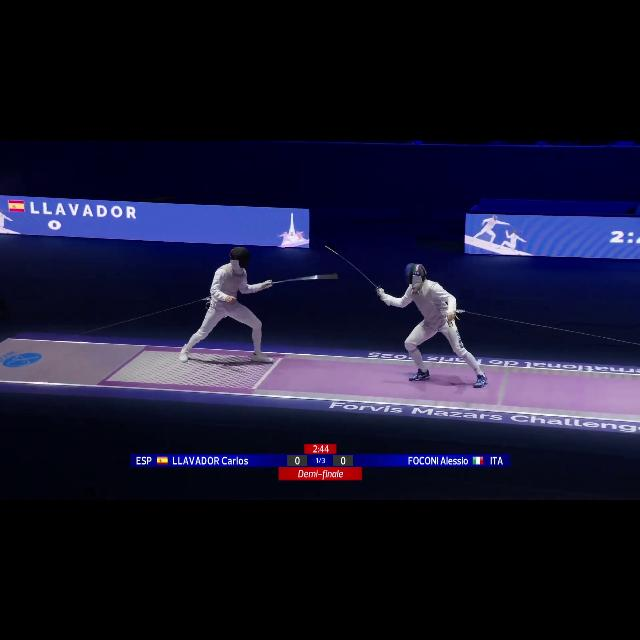blade: (322, 244, 382, 296), (263, 270, 339, 288)
